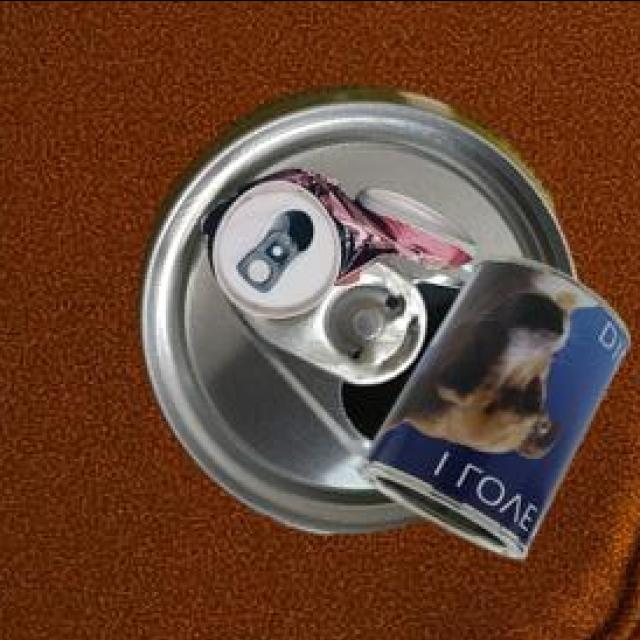logam: (144, 88, 580, 536), (361, 258, 634, 562), (204, 172, 480, 321)
